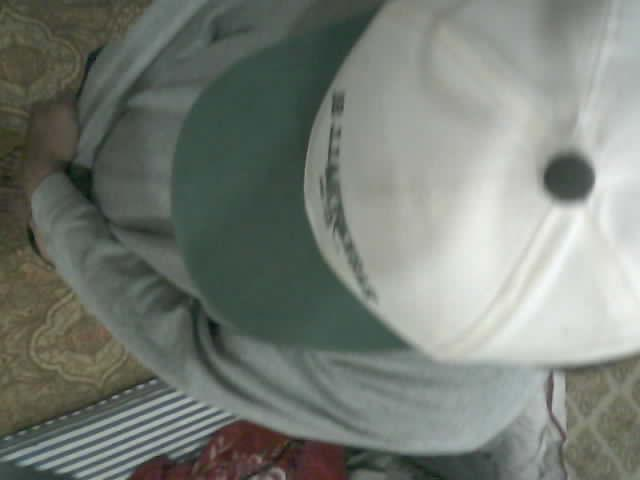cap: (171, 0, 639, 367)
